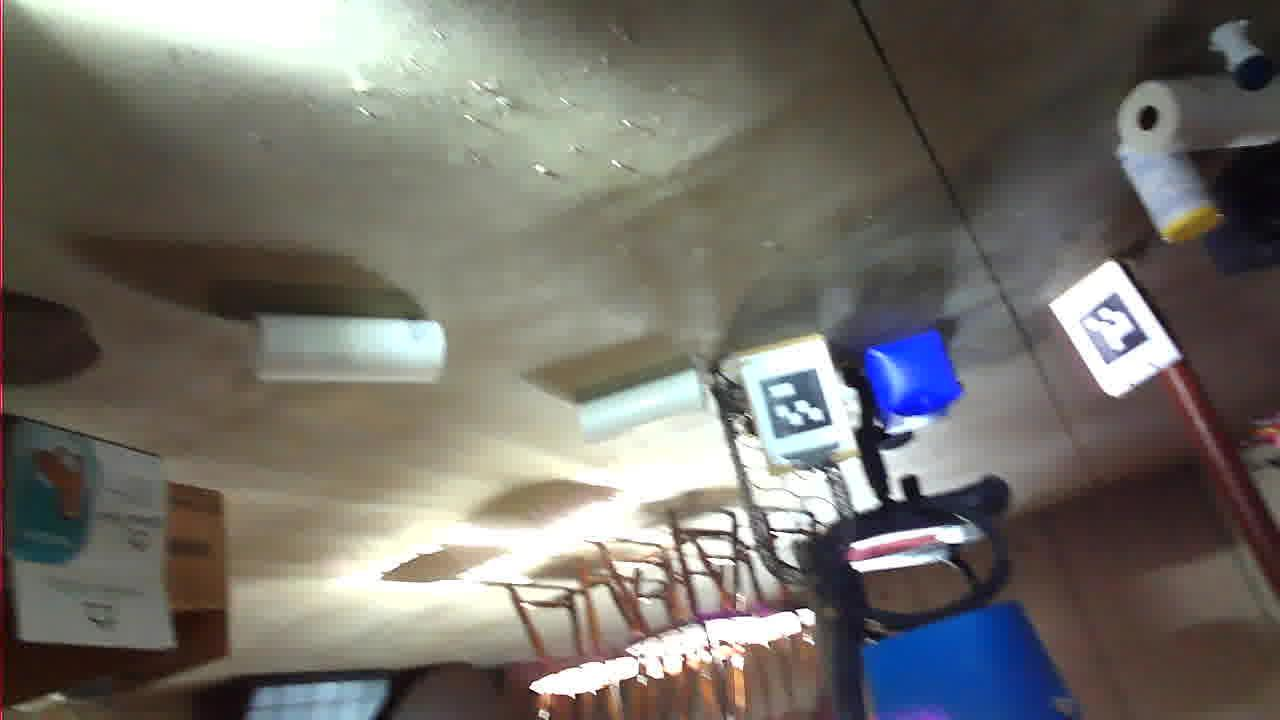coral: (837, 336, 1032, 399), (570, 279, 702, 353)
